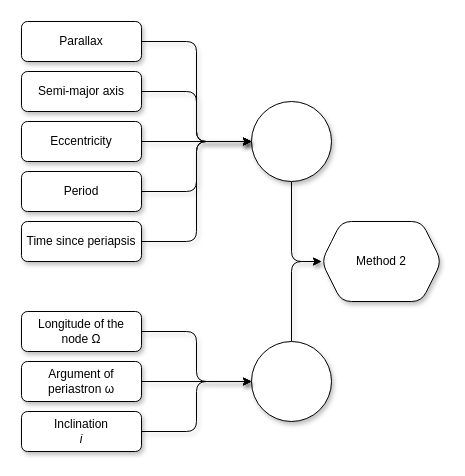
Some shapes in this 465 by 476 pixel diagram are drawn without their labels. Here are the shapes that lost their labels. From the top down, the centre of each, then its label:
At (292,142): "Position & Velocity".
At (292,382): "Rotation base".
